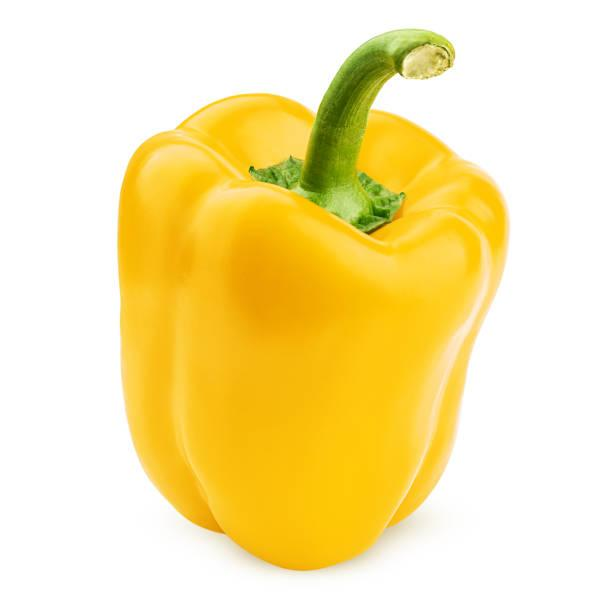Capsicum: (119, 30, 508, 569)
